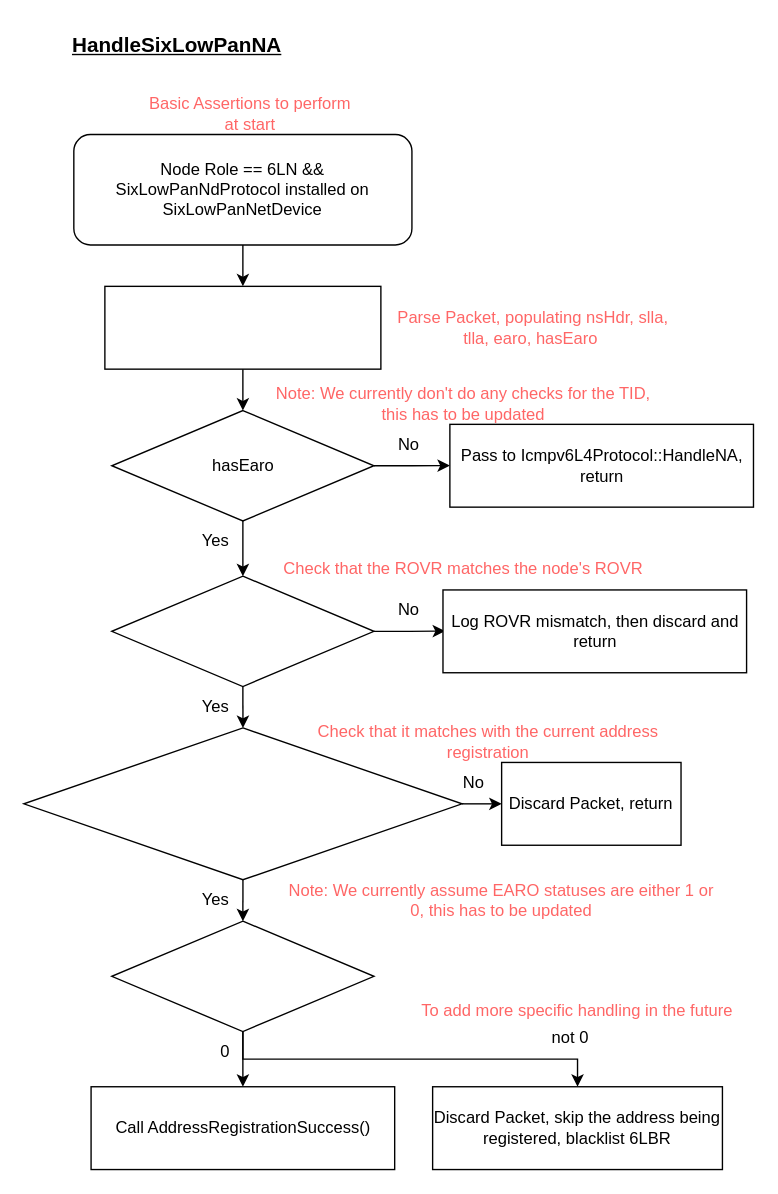
Image size: 778x1194. Some labels were removed from this diagram. Each missing label, with the centre of its shape:
"earo rovr matches 6LN's rovr" goes at (x=242, y=631).
"m_addressPendingReg matches with NA target address" goes at (x=242, y=803).
"ParseAndValidateNaEaroPacket" goes at (x=242, y=327).
"switch(EARO status)" goes at (x=242, y=976).
